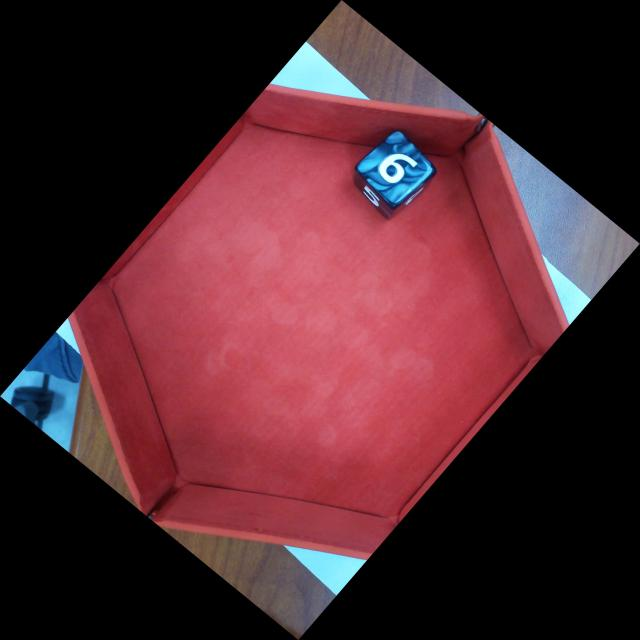dice: (352, 127, 440, 212)
